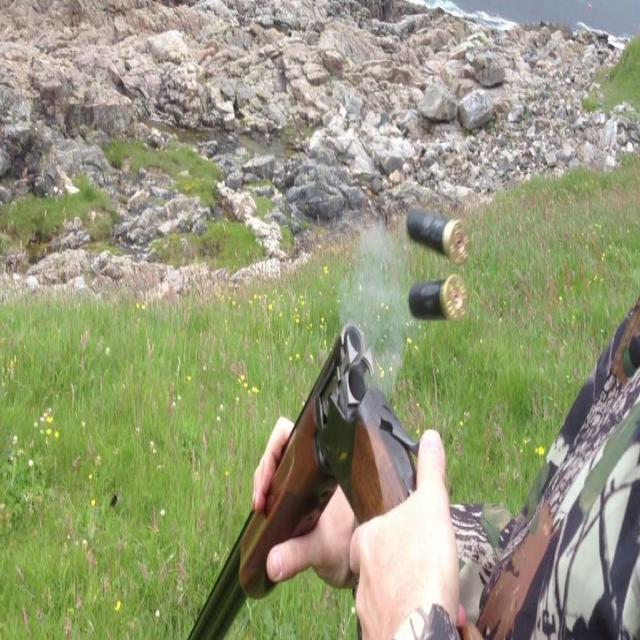weapon: (187, 318, 481, 639)
